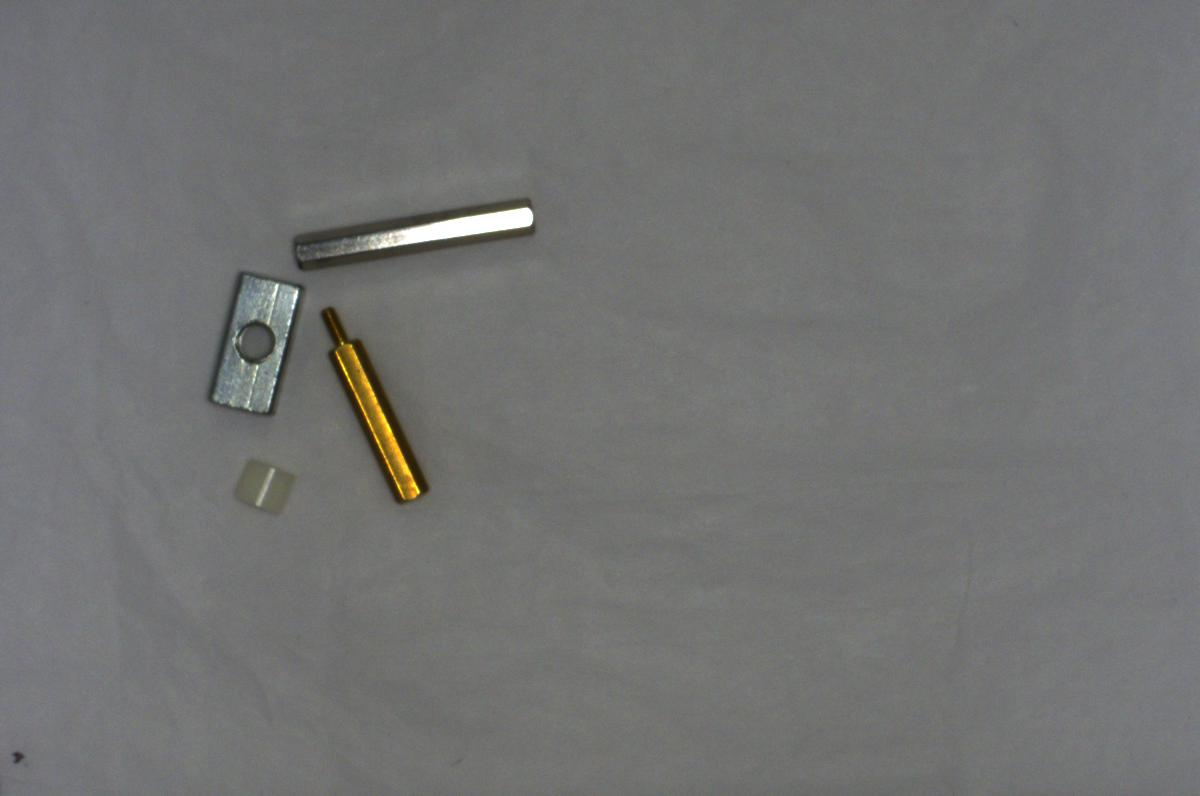Double hexagonal column: (288, 195, 541, 267)
Hexagon pillar: (311, 296, 422, 507)
Plastic cushion pillar: (225, 450, 294, 513)
Rectangular nut: (191, 267, 301, 421)
